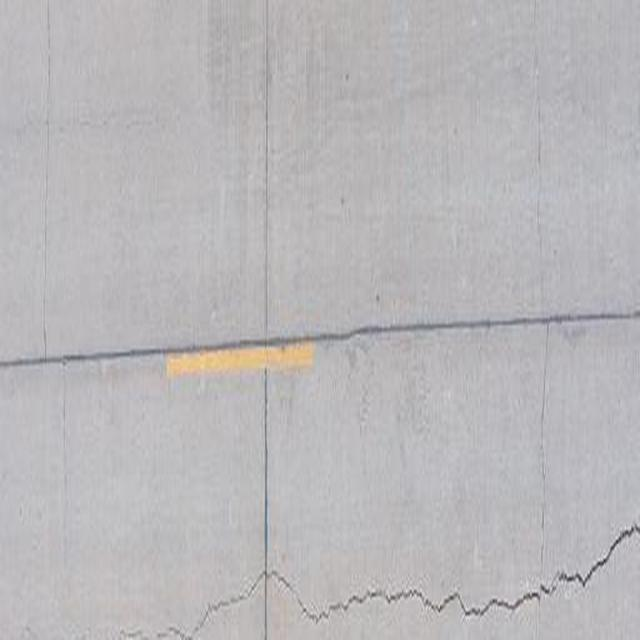minor crack: (77, 7, 273, 629), (409, 513, 640, 616), (526, 20, 551, 604), (296, 578, 417, 621), (458, 590, 540, 618), (601, 521, 636, 560), (423, 588, 466, 613), (555, 568, 588, 586)
moderate crack: (12, 306, 636, 372), (273, 0, 352, 320), (389, 0, 455, 326), (36, 17, 57, 620), (250, 0, 282, 345), (477, 312, 508, 566), (260, 372, 273, 640), (92, 354, 180, 387), (352, 359, 377, 434), (557, 321, 594, 342), (118, 631, 185, 640), (538, 580, 557, 596), (22, 624, 39, 639)
severe crack: (126, 568, 290, 640), (57, 352, 76, 640), (386, 0, 412, 96), (4, 349, 121, 370), (537, 470, 547, 562), (342, 342, 361, 370), (480, 316, 493, 331), (60, 354, 69, 367), (633, 306, 640, 319)
